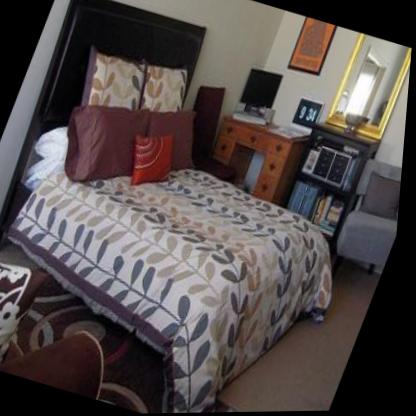Bed: (7, 0, 337, 414)
Carpet: (0, 261, 38, 367)
Chair: (320, 156, 406, 305)
Table: (205, 108, 314, 205)
